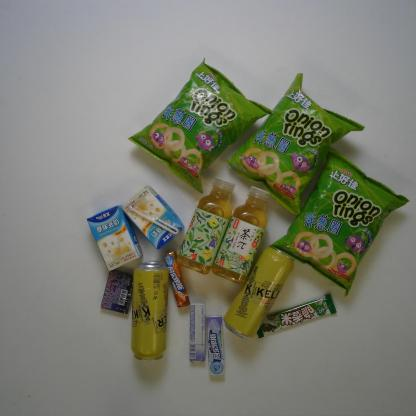Alcohol: (222, 245, 297, 340), (128, 259, 171, 364)
Candy: (162, 249, 192, 309), (186, 300, 208, 367), (204, 312, 226, 378)
Chocolate: (255, 290, 339, 341)
Drink: (210, 184, 273, 286), (174, 176, 237, 277)
Gum: (98, 268, 135, 316)
Milk: (121, 184, 187, 252), (85, 203, 145, 273)
Puffed Food: (266, 144, 413, 300), (224, 71, 367, 218), (126, 54, 274, 196)
